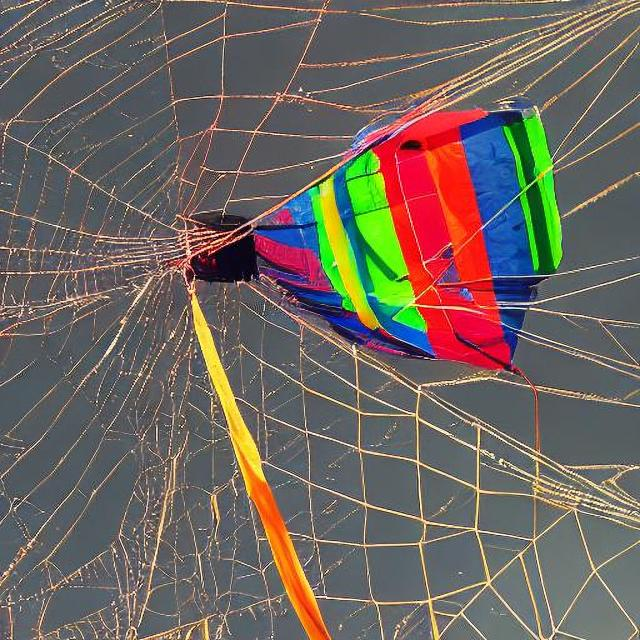floating object: (265, 96, 563, 361), (170, 283, 338, 639)
